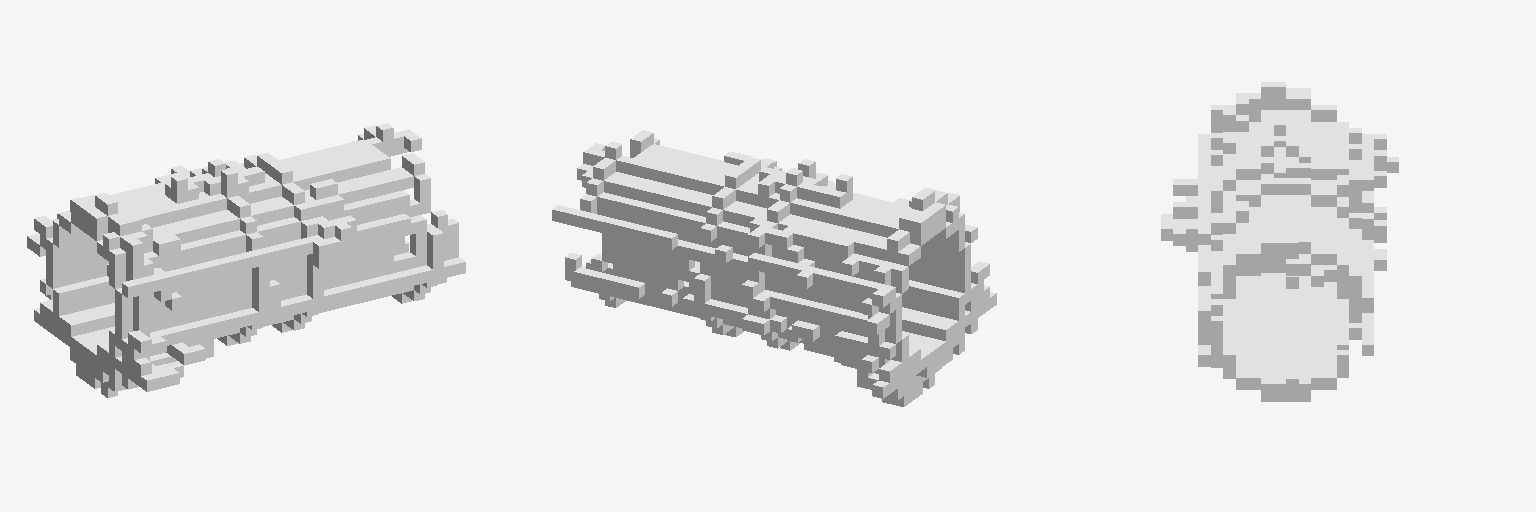
Rendered from tunnelDestroy.vox.obj.
The picture shows the model from 3 angles: view 1: azimuth 30°, elevation 25°; view 2: azimuth 150°, elevation 25°; view 3: azimuth 270°, elevation 25°; orthographic projection.
Visible parts, largest first — view 1: object 1; view 2: object 1; view 3: object 1.
Part boxes in pixels (x1,y1,x2,y2): object 1: (27, 123, 465, 397); object 1: (552, 130, 996, 406); object 1: (1161, 82, 1398, 401).
Bounding box in the file's own units: 3.1 × 1.7 × 1.9.